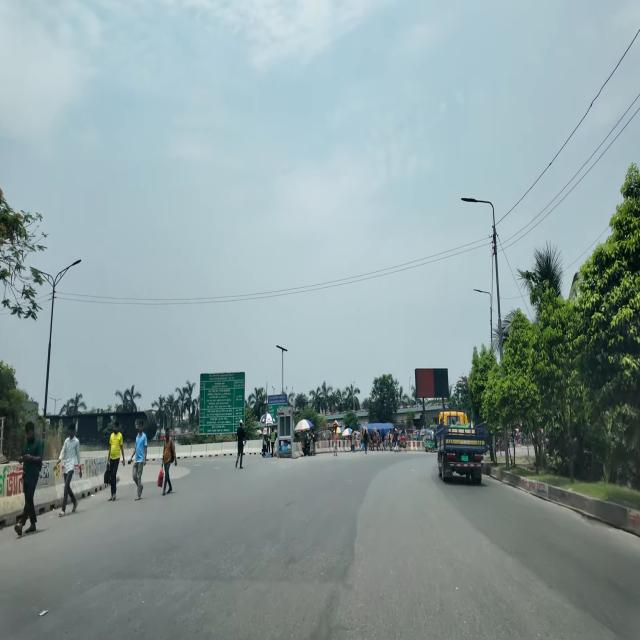person: (236, 420, 247, 470)
